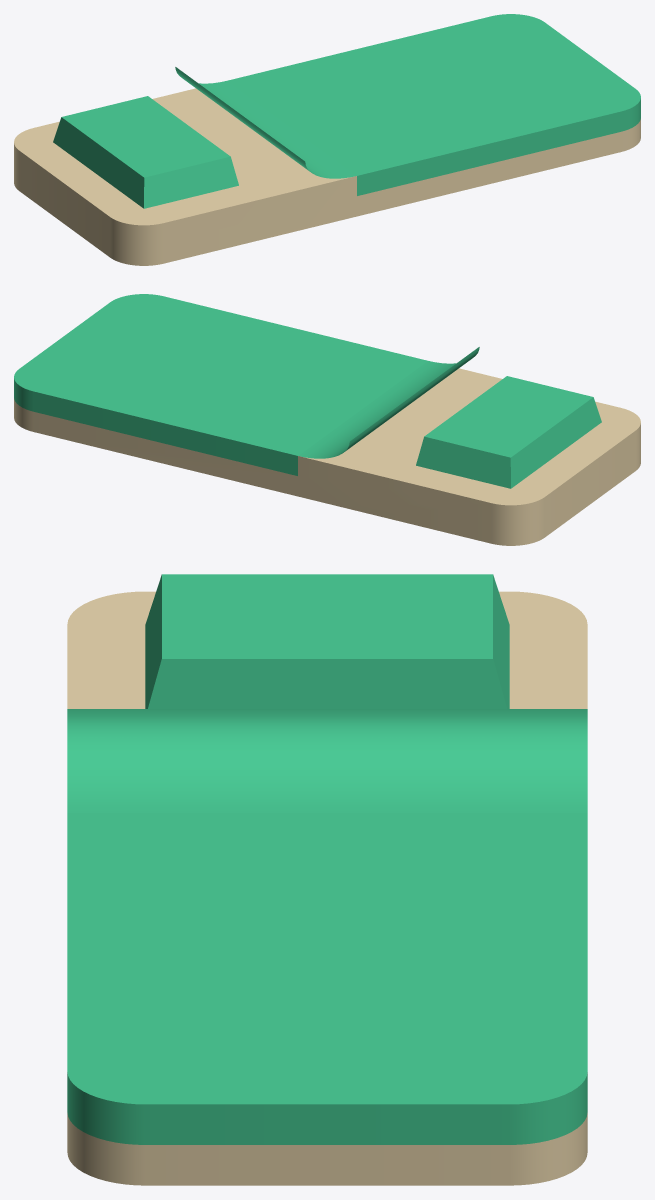
Rendered from bedroll.dae.
The picture shows the model from 3 angles, top to bottom: view 1: azimuth 30°, elevation 25°; view 2: azimuth 150°, elevation 25°; view 3: azimuth 270°, elevation 25°; orthographic projection. The views are drawn at different scales.
Parts seen in each view (by area): view 1: bedroll; view 2: bedroll; view 3: bedroll.
Part boxes in pixels (x1,y1,x2,y2): bedroll: (14,14,640,265); bedroll: (14,294,640,545); bedroll: (67,574,587,1185).
Bounding box in the file's own units: 2.43 × 0.2994 × 1.04.
